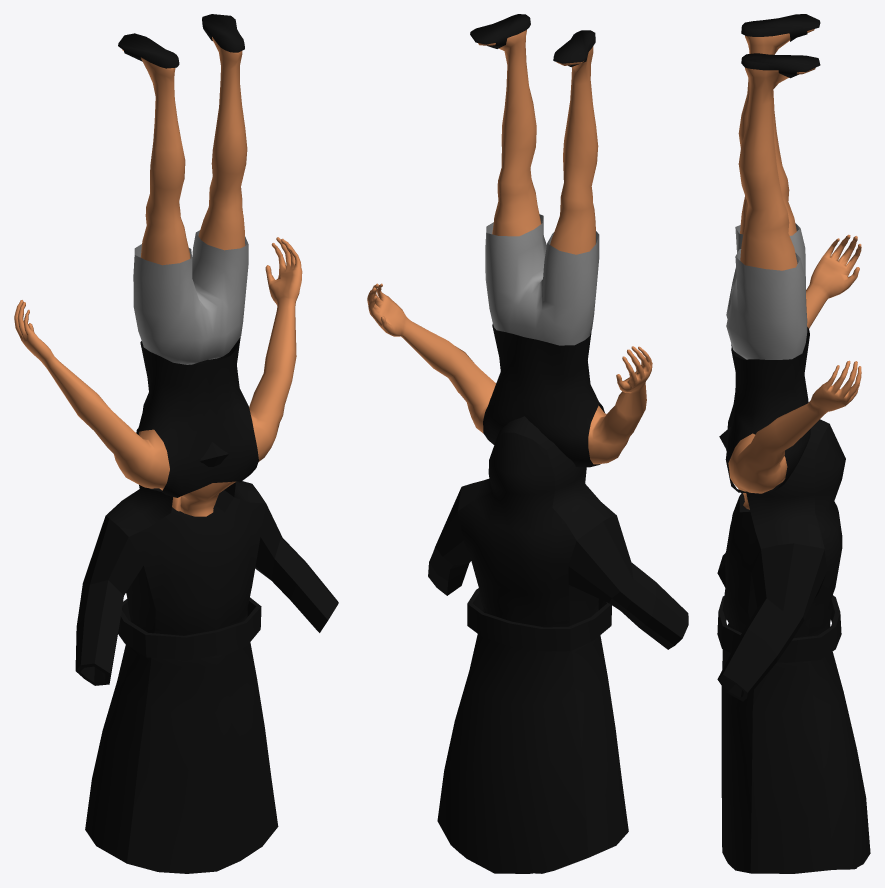
3 views of the same model, side by side, from view 1: azimuth 30°, elevation 25°; view 2: azimuth 150°, elevation 25°; view 3: azimuth 270°, elevation 25° (orthographic).
Visible parts, largest first — view 1: Box003, Object010, Object013; view 2: Box003, Object010, Object013; view 3: Box003, Object010, Object013.
Boxes of the visible parts, x1,y1,x2,y2 form: Box003: (75,442,338,873); Object010: (14,14,302,516); Object013: (118,597,261,660); Box003: (428,416,688,873); Object010: (367,14,652,467); Object013: (467,588,611,651); Box003: (717,419,870,873); Object010: (725,14,861,509); Object013: (717,595,841,662).
Bounding box in the file's own units: 186 × 520 × 88.84.
